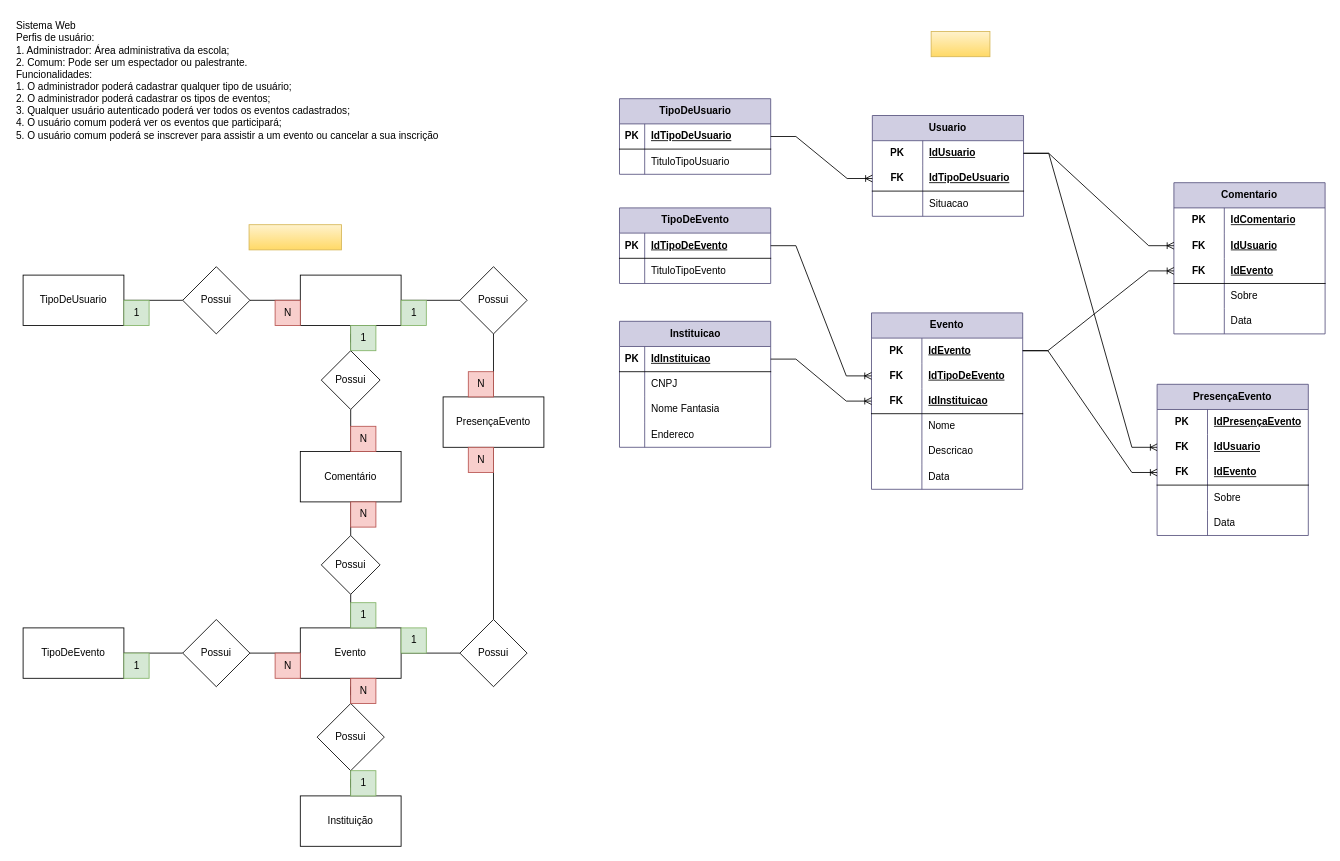
The diagram is 1340 pixels wide and 861 high, and some of its shapes have lost their labels. The shapes that lost their labels are listed below. From the top down, each one's centre as x and y in pixels, then its label:
At point (960, 44): "LÓGICO".
At point (294, 237): "CONCEITUAL".
At point (350, 300): "Usuário".
